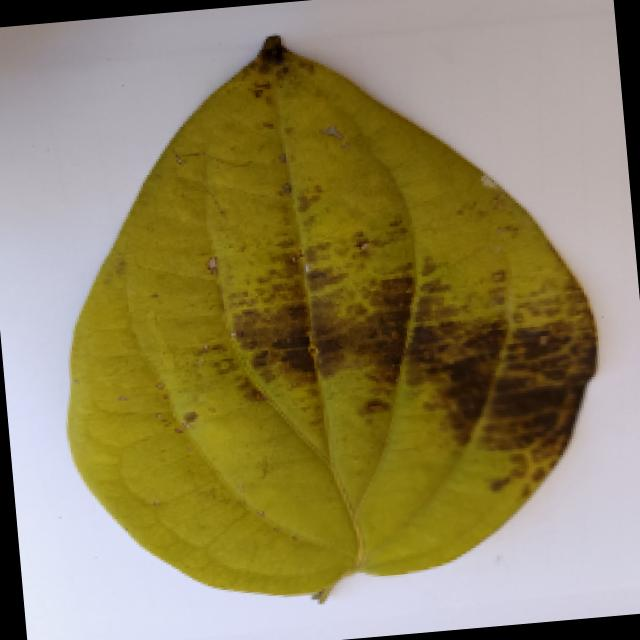slow-decline: (21, 4, 616, 606)
